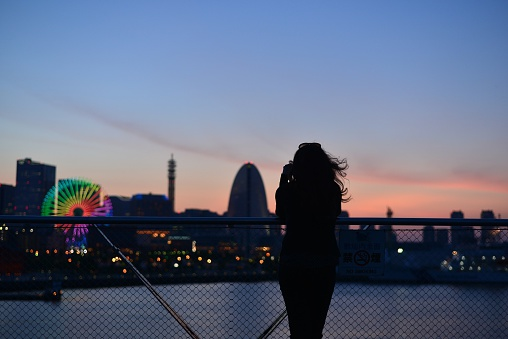em pe: (266, 131, 344, 339)
